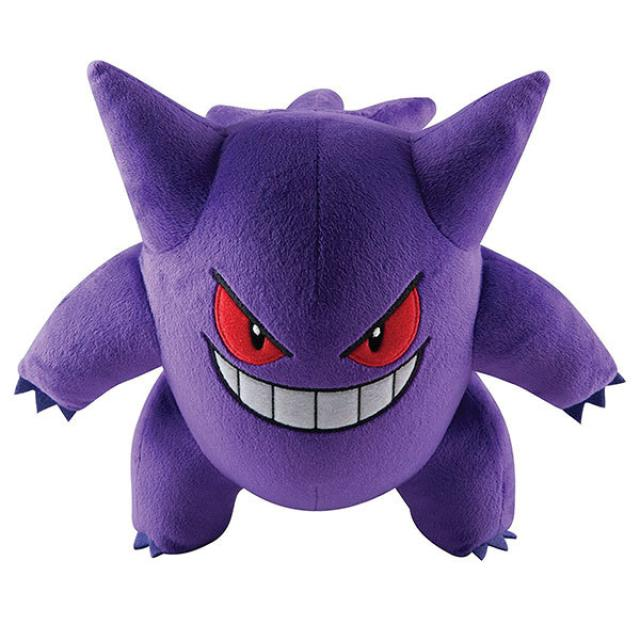Gengar: (21, 57, 632, 578)
